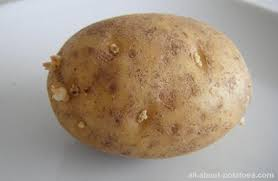potato: (47, 11, 253, 160)
